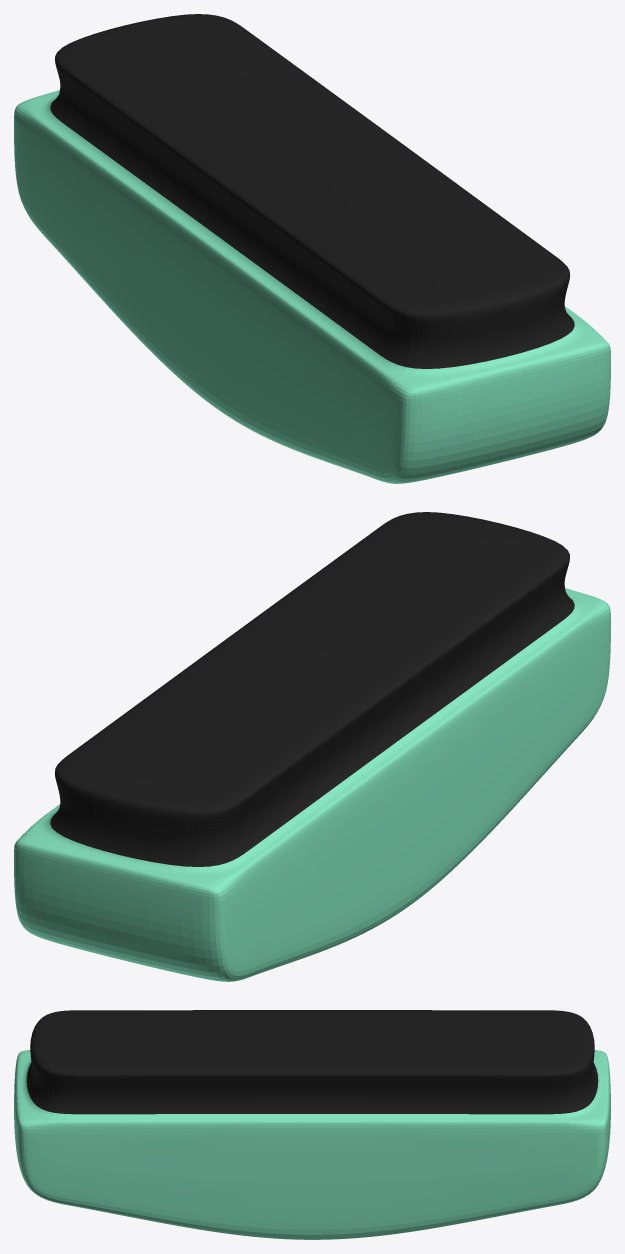
The model's file is eraser.fbx.
The picture shows the model from 3 angles, top to bottom: view 1: azimuth 30°, elevation 25°; view 2: azimuth 150°, elevation 25°; view 3: azimuth 270°, elevation 25°; orthographic projection. The views are drawn at different scales.
Parts seen in each view (by area): view 1: Cube; view 2: Cube; view 3: Cube.
Part boxes in pixels (left/top/right/bottom): Cube: left=14, top=14, right=610, bottom=483; Cube: left=14, top=512, right=610, bottom=981; Cube: left=14, top=1010, right=610, bottom=1239.
Bounding box in the file's own units: 200 × 204 × 655.
